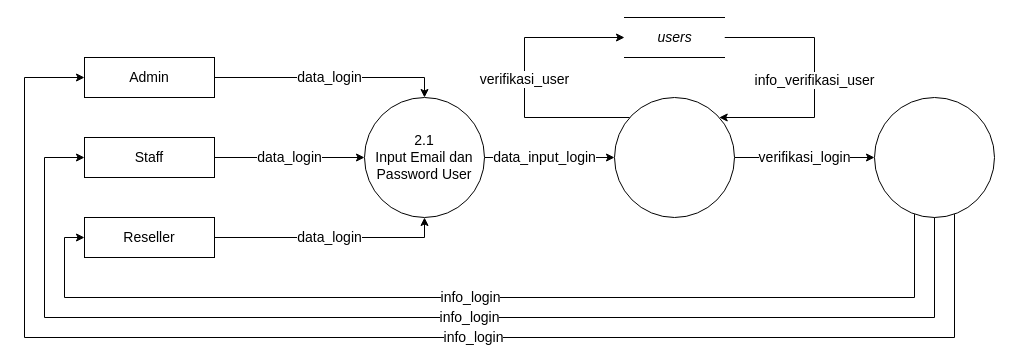
Image size: 1012x363. Some labels were removed from this diagram. Each missing label, with the centre of its shape:
2.2 Verifikasi Data Login: (674,157)
2.3 Menampilkan Dashboard: (934,157)
